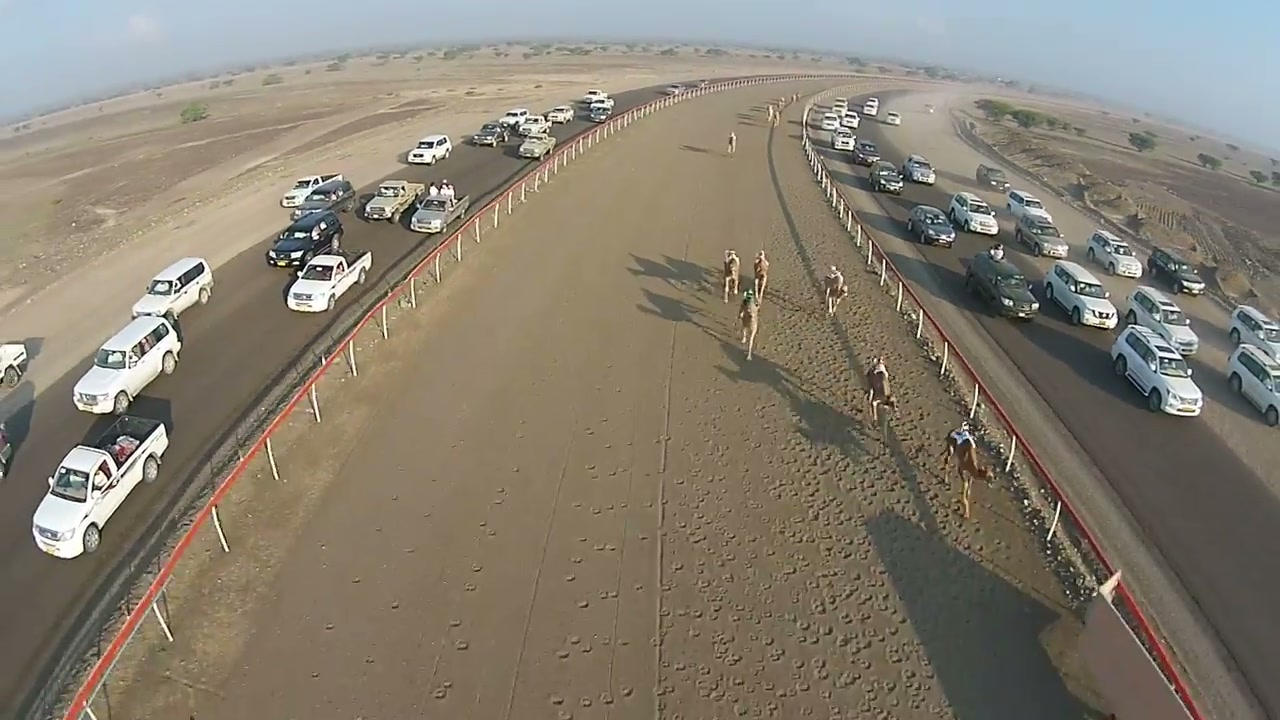animal_foot_print: (640, 324, 964, 713), (415, 433, 529, 717), (549, 407, 639, 711)
